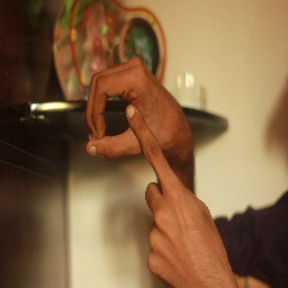Q: (78, 54, 204, 217)
